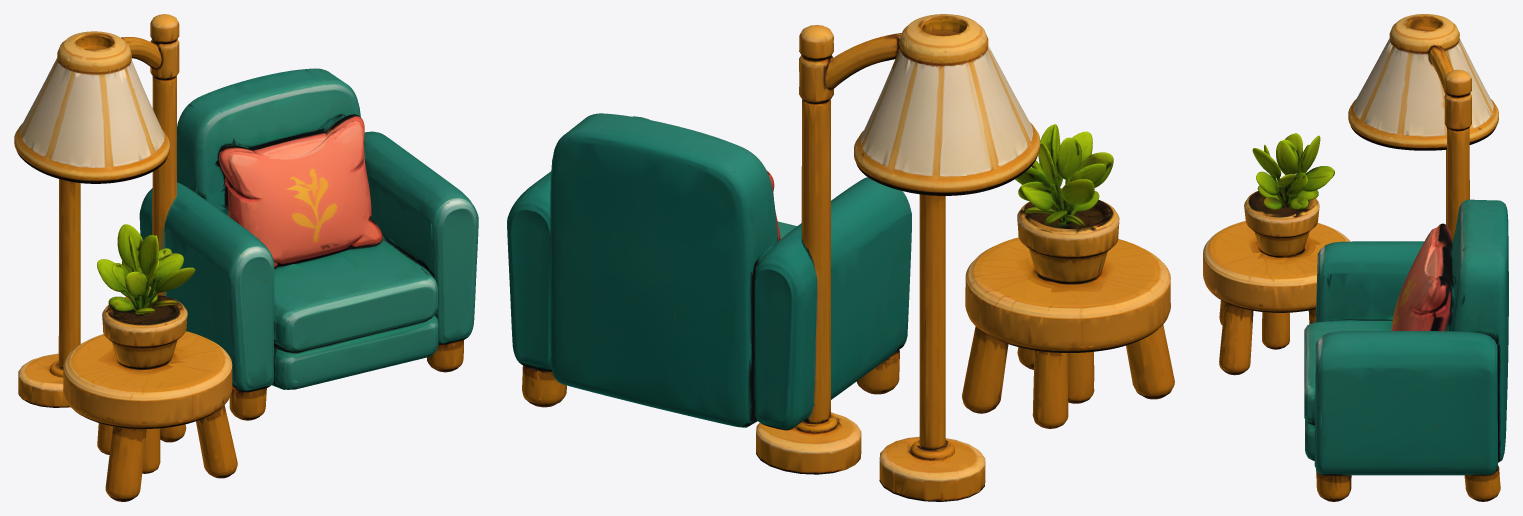
File: reading-corner.glb
3 views of the same model, side by side, from view 1: azimuth 30°, elevation 25°; view 2: azimuth 150°, elevation 25°; view 3: azimuth 270°, elevation 25° (orthographic). The views are drawn at different scales.
Visible parts, largest first — view 1: node_0; view 2: node_0; view 3: node_0.
Part boxes in pixels (bbox=[...]): node_0: bbox=[14, 14, 478, 501]; node_0: bbox=[507, 14, 1174, 501]; node_0: bbox=[1203, 14, 1508, 501].
Bounding box in the file's own units: 0.8848 × 0.718 × 0.5889.
1 material, 1 textured.
